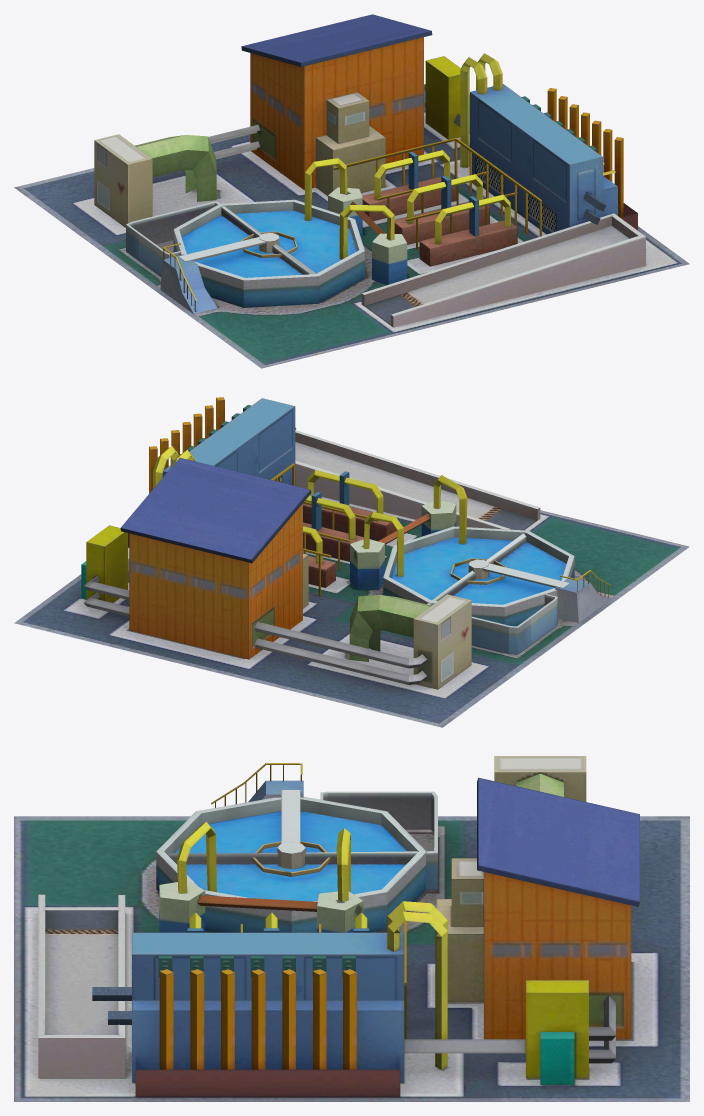
The model's file is water_processing_01.obj.
The picture shows the model from 3 angles, top to bottom: view 1: azimuth 30°, elevation 25°; view 2: azimuth 150°, elevation 25°; view 3: azimuth 270°, elevation 25°; orthographic projection. The views are drawn at different scales.
Parts seen in each view (by area): view 1: shuichang02; view 2: shuichang02; view 3: shuichang02.
Boxes of the visible parts, <box> form: shuichang02: <box>14,14,689,368</box>; shuichang02: <box>14,397,689,727</box>; shuichang02: <box>14,756,689,1101</box>.
Size of the model in its own units: 10.13 by 2.95 by 10.13.
